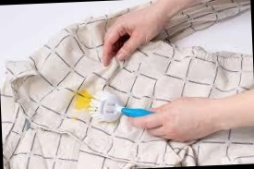mustard: (75, 89, 92, 109)
